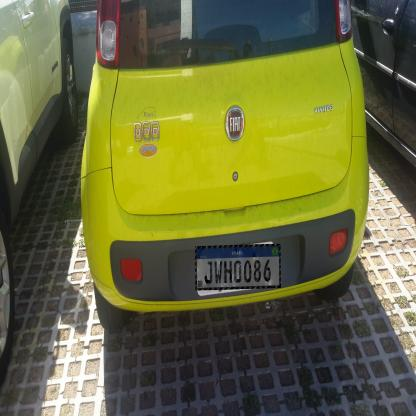PlacaM: (195, 244, 281, 290)
